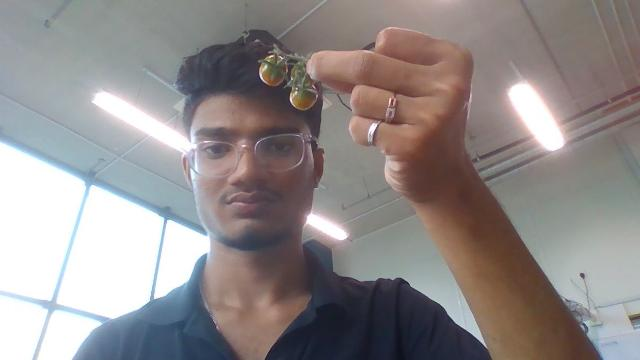Fully Grown: (259, 55, 288, 87), (289, 86, 317, 111)
